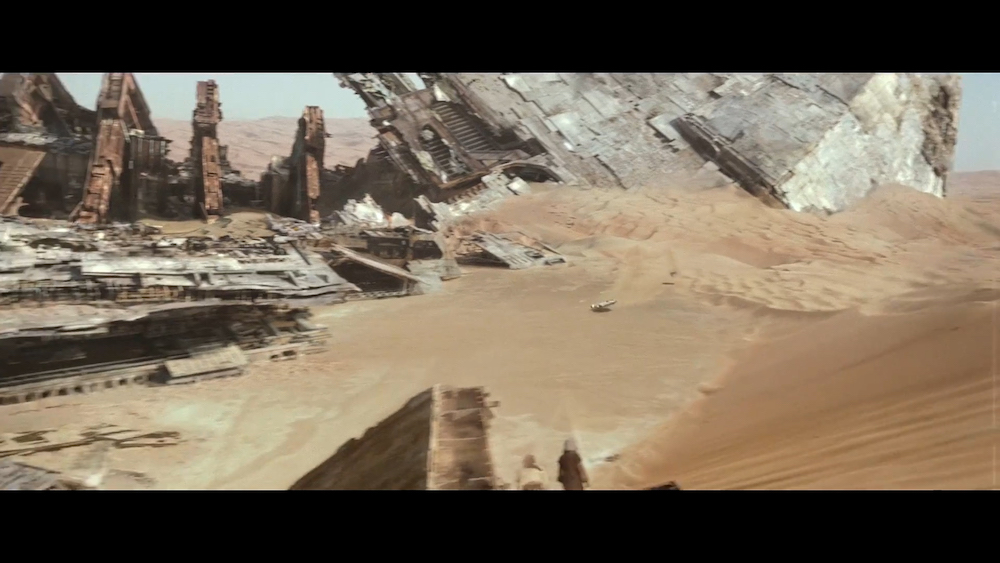Millennium Falcon: (590, 299, 618, 311)
Tie Fighter: (669, 270, 678, 278)
